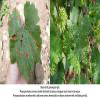grape leaf black rot: (6, 1, 46, 82), (63, 5, 92, 76)
